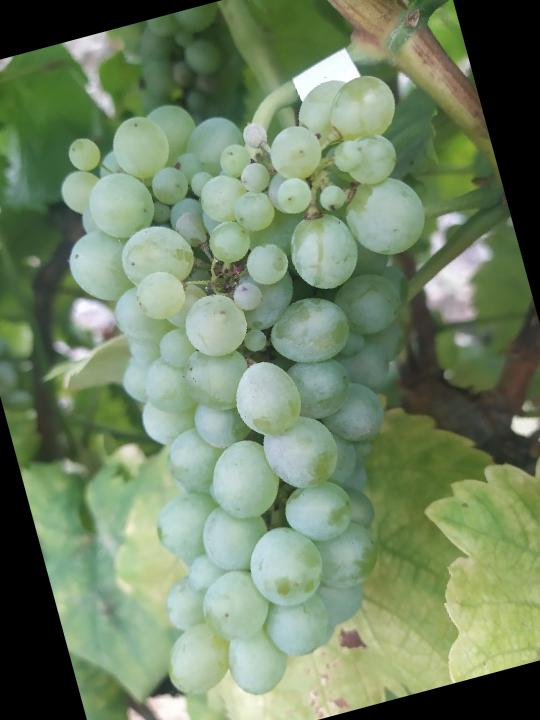grape: (21, 45, 540, 720)
